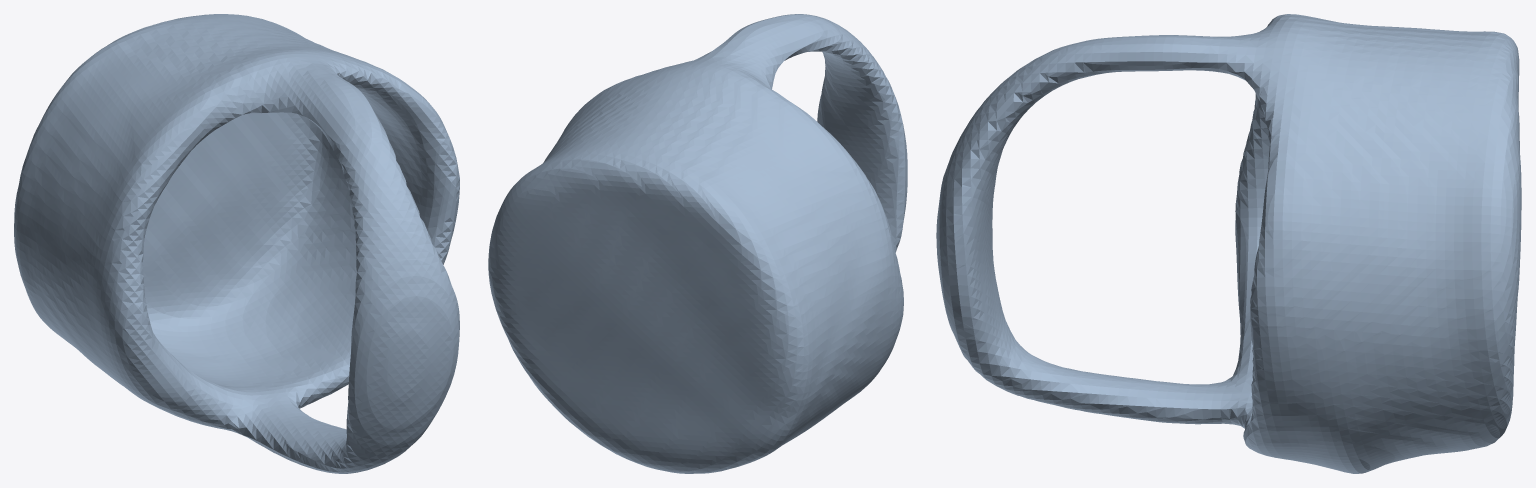
3 renders of one model, left to right at view 1: azimuth 30°, elevation 25°; view 2: azimuth 150°, elevation 25°; view 3: azimuth 270°, elevation 25°, orthographic. The views are drawn at different scales.
Visible parts, largest first — view 1: ours_mesh; view 2: ours_mesh; view 3: ours_mesh.
Boxes of the visible parts, x1,y1,x2,y2 form: ours_mesh: [14, 14, 459, 473]; ours_mesh: [488, 14, 907, 473]; ours_mesh: [936, 14, 1521, 473].
Bounding box in the file's own units: 0.3912 × 0.3863 × 0.4822.
